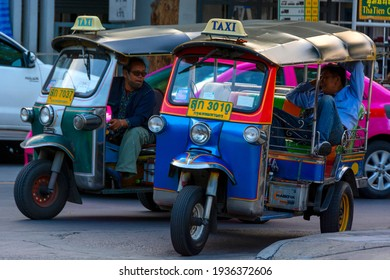threewheel: (146, 18, 376, 255), (14, 15, 183, 222)
